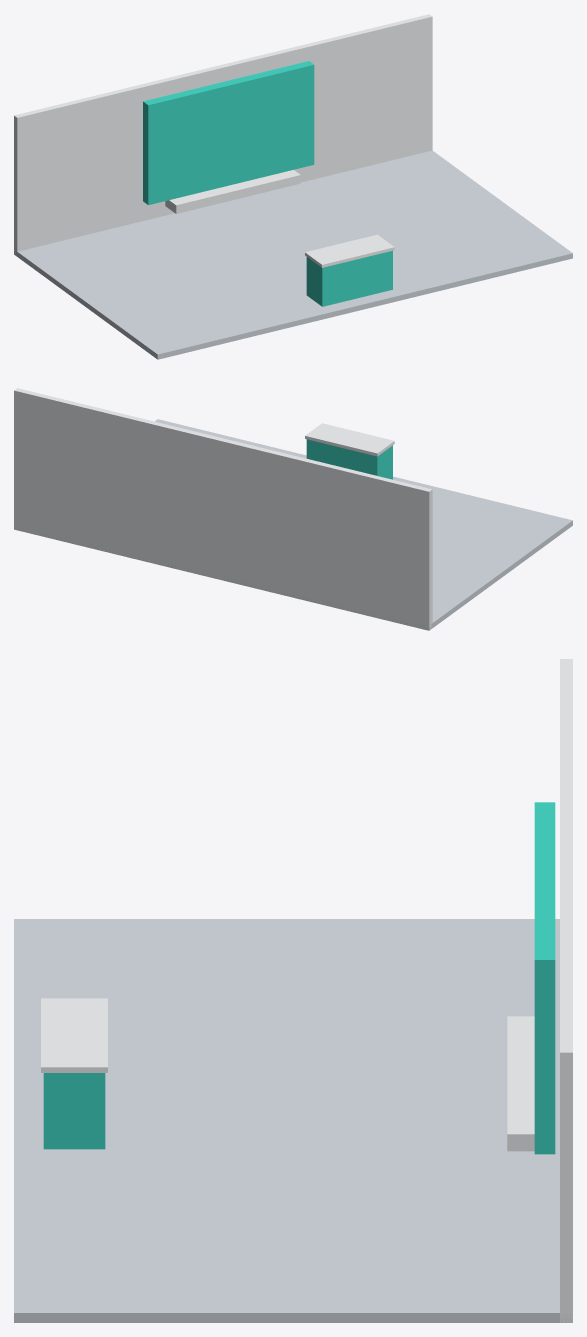
The picture shows the model from 3 angles, top to bottom: view 1: azimuth 30°, elevation 25°; view 2: azimuth 150°, elevation 25°; view 3: azimuth 270°, elevation 25°; orthographic projection. The views are drawn at different scales.
Visible parts, largest first — view 1: Exhibition Booth Concept; view 2: Exhibition Booth Concept; view 3: Exhibition Booth Concept.
Part boxes in pixels (x1,y1,x2,y2): Exhibition Booth Concept: (14, 14, 572, 359); Exhibition Booth Concept: (14, 388, 572, 630); Exhibition Booth Concept: (14, 659, 572, 1322).
Bounding box in the file's own units: 10 × 3.2 × 6.
